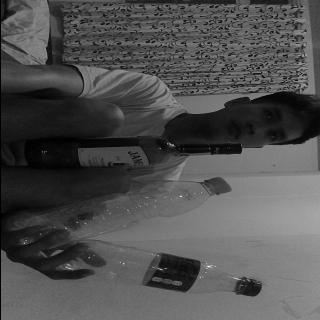objects: (22, 136, 240, 170)
plastic_bottles: (6, 178, 232, 250), (58, 240, 262, 298)
